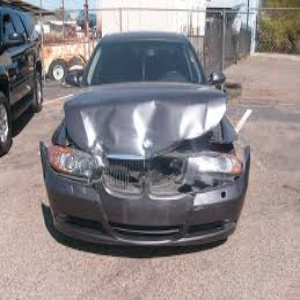bonnet: (62, 83, 228, 148)
bumper: (181, 142, 254, 246)
